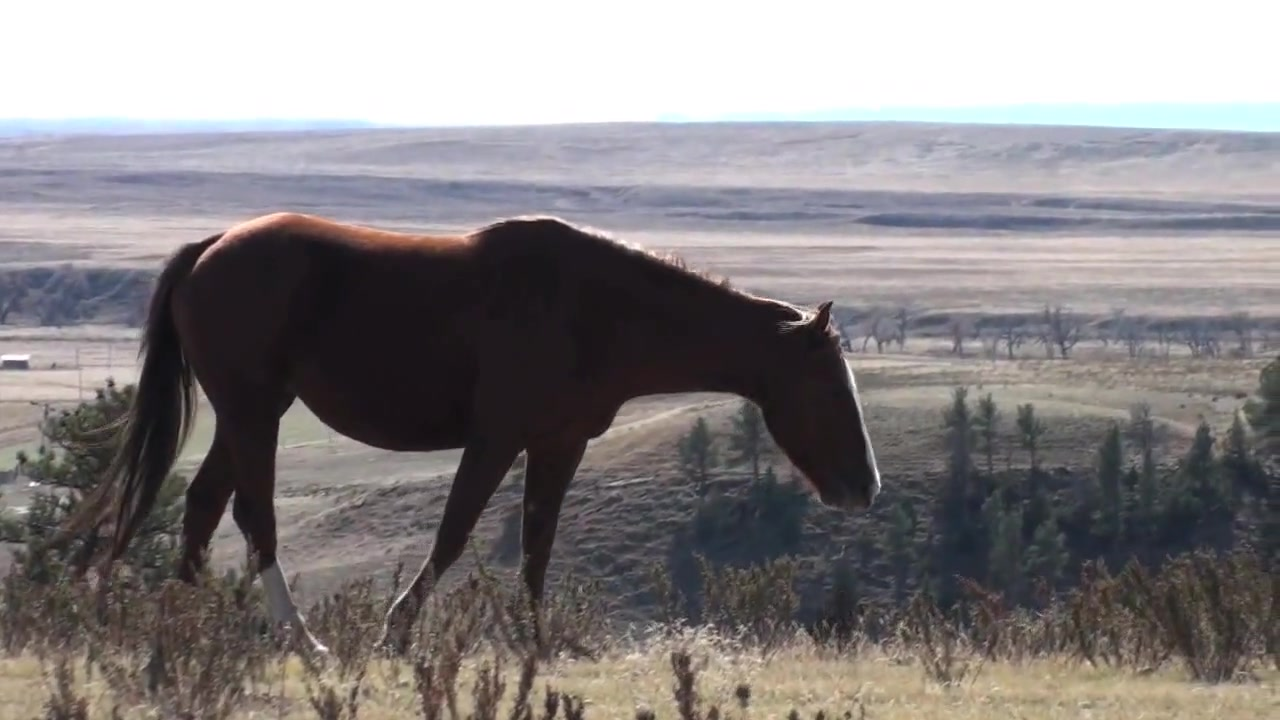horse: (46, 213, 885, 676)
